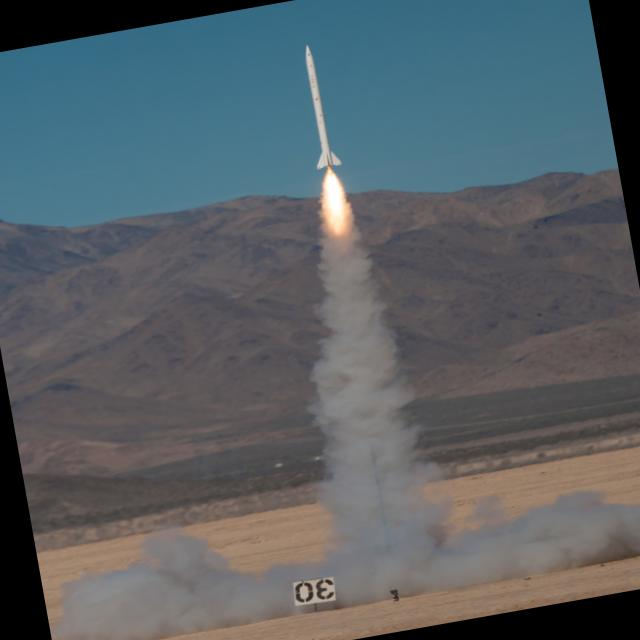rocket: (282, 38, 372, 283)
